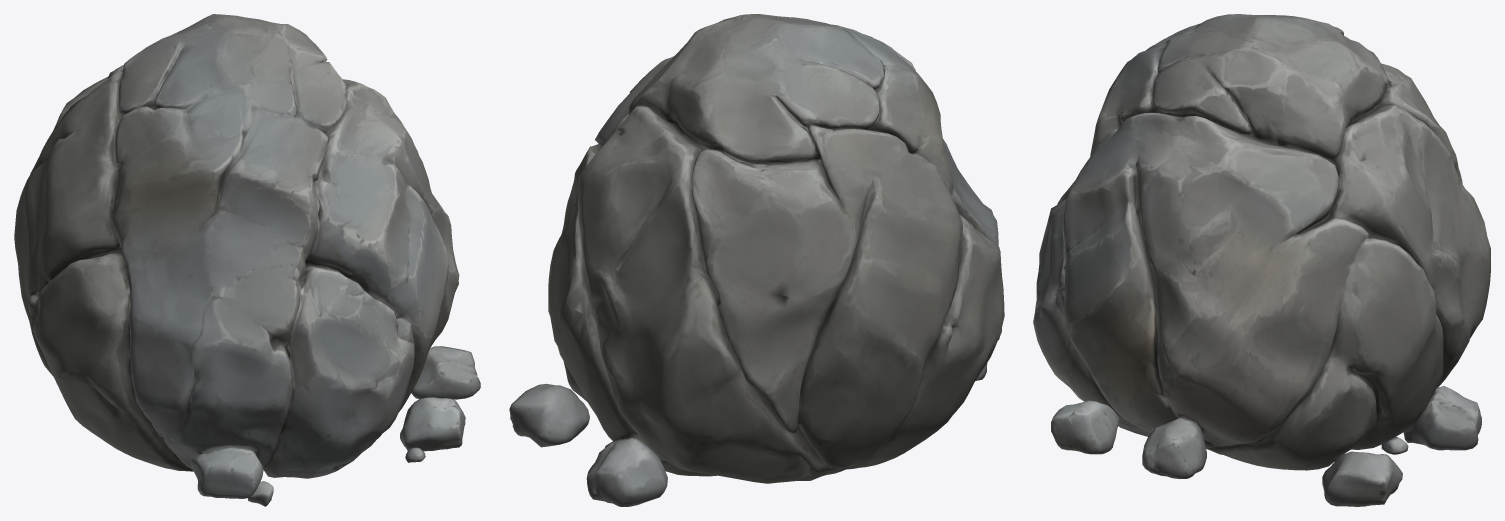
The model's file is boulder.glb.
3 views of the same model, side by side, from view 1: azimuth 30°, elevation 25°; view 2: azimuth 150°, elevation 25°; view 3: azimuth 270°, elevation 25° (orthographic). The views are drawn at different scales.
Visible parts, largest first — view 1: tripo_node_09b08b2c-7352-482b-8e52-f6260362f630; view 2: tripo_node_09b08b2c-7352-482b-8e52-f6260362f630; view 3: tripo_node_09b08b2c-7352-482b-8e52-f6260362f630.
Part boxes in pixels (x1=…): tripo_node_09b08b2c-7352-482b-8e52-f6260362f630: x1=14, y1=14, x2=480, y2=506; tripo_node_09b08b2c-7352-482b-8e52-f6260362f630: x1=509, y1=14, x2=1004, y2=506; tripo_node_09b08b2c-7352-482b-8e52-f6260362f630: x1=1033, y1=14, x2=1490, y2=506.
Size of the model in its own units: 0.9539 by 0.9768 by 0.9768.
Materials: 1 (1 with a texture image).
